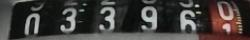digits: (138, 5, 157, 36), (98, 6, 115, 37), (23, 12, 41, 40), (179, 10, 196, 36), (59, 8, 77, 32), (216, 0, 234, 21)
